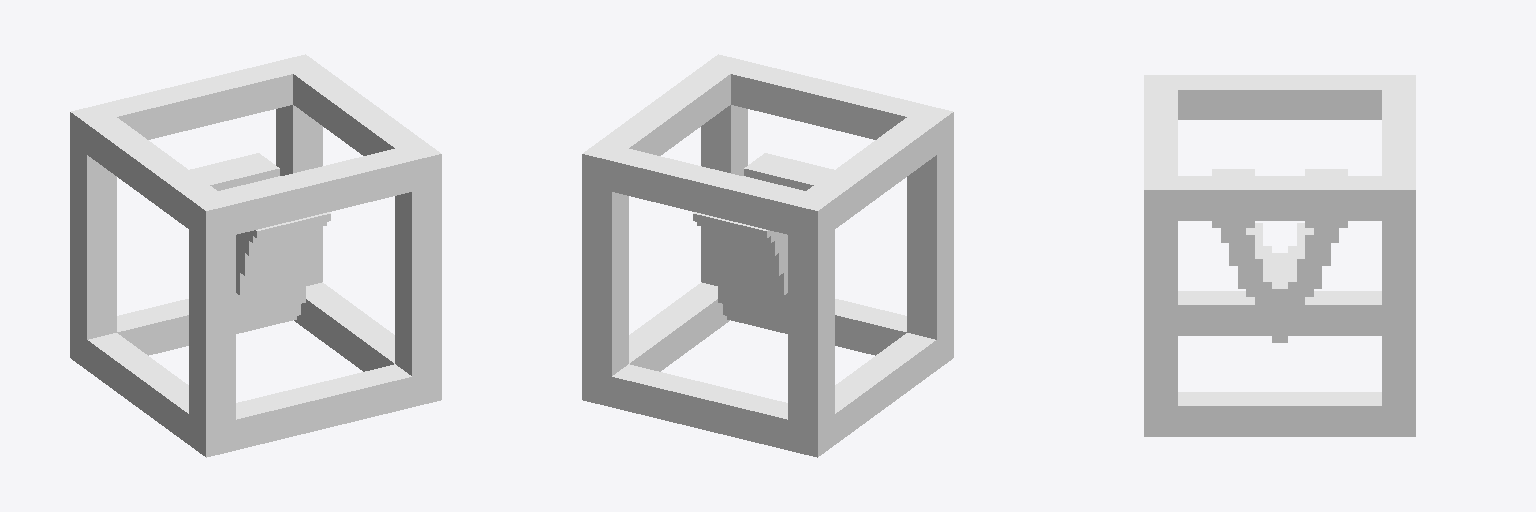
3 renders of one model, left to right at view 1: azimuth 30°, elevation 25°; view 2: azimuth 150°, elevation 25°; view 3: azimuth 270°, elevation 25°, orthographic.
Visible parts, largest first — view 1: Outer_32x32x32, Inner_32x32x32.001; view 2: Outer_32x32x32, Inner_32x32x32.001; view 3: Outer_32x32x32, Inner_32x32x32.001.
Part boxes in pixels (x1,y1,x2,y2): Outer_32x32x32: (70,54,441,457); Inner_32x32x32.001: (190,153,330,333); Outer_32x32x32: (582,54,953,457); Inner_32x32x32.001: (693,153,833,333); Outer_32x32x32: (1144,75,1415,436); Inner_32x32x32.001: (1212,169,1347,342).
Bounding box in the file's own units: 3.2 × 3.2 × 3.2.